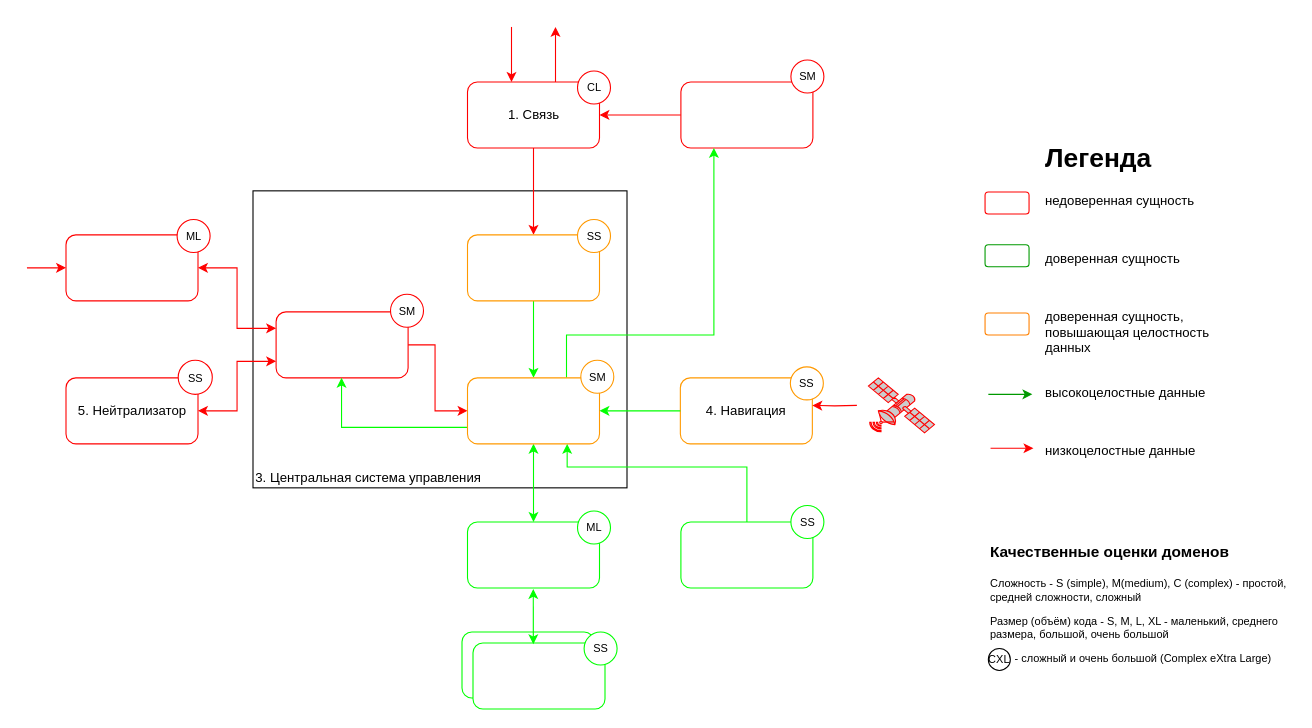
The diagram is 1312 pixels wide and 728 high, and some of its shapes have lost their labels. Each missing label, with the box of its shape:
10. Модуль ЭЦП: (466, 234, 600, 301)
11. Модуль рассчета маршрута: (466, 377, 600, 444)
12. Модуль управления нейтрализатором: (275, 311, 408, 378)
2.Сбор и анализ данных: (65, 234, 198, 301)
6. Полётный контроллер: (466, 521, 600, 588)
7. Самодиагностика и мониторинг: (680, 81, 813, 148)
8. Приводы: (472, 642, 605, 709)
9. Контроль батареи: (680, 521, 813, 588)
